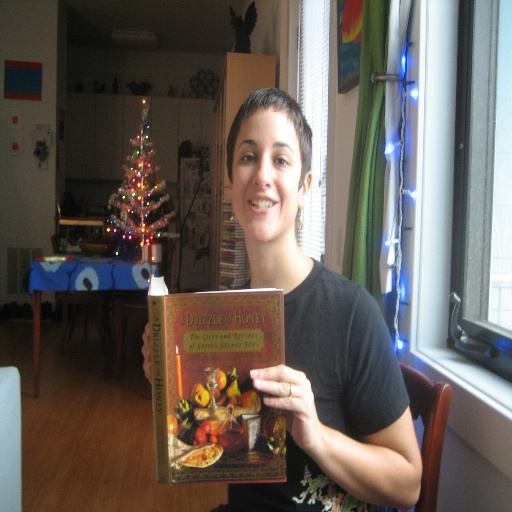hand: (251, 368, 341, 446), (139, 320, 152, 386)
